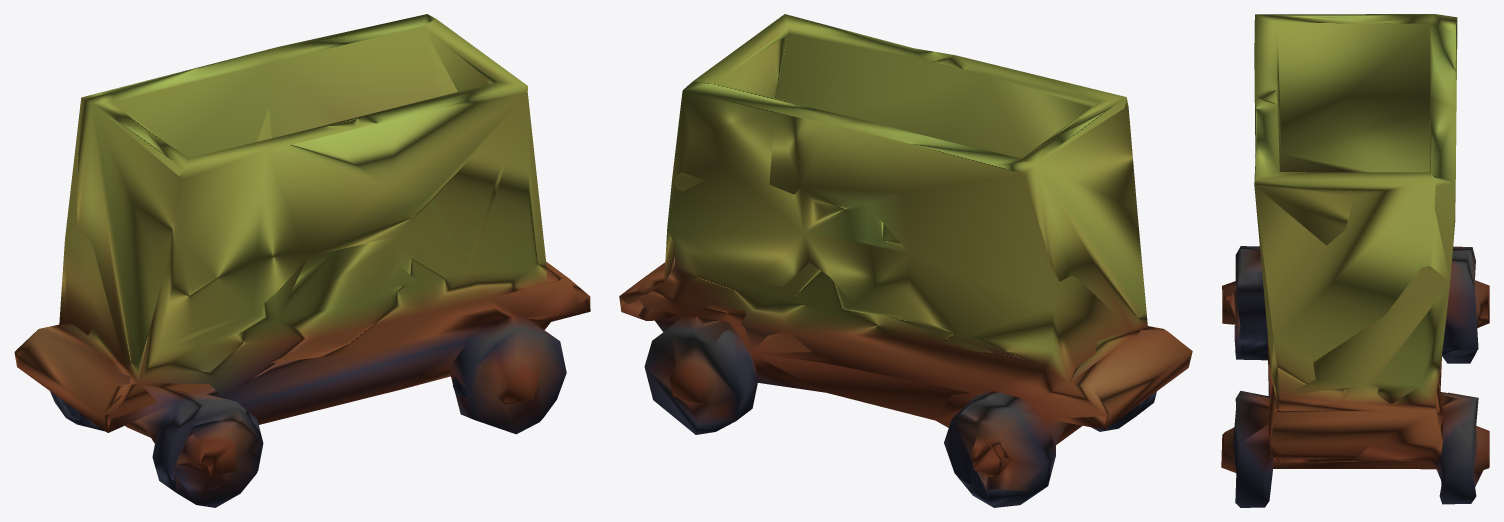
The model's file is gen3d-mine-cart-lod1.glb.
The picture shows the model from 3 angles, left to right: view 1: azimuth 30°, elevation 25°; view 2: azimuth 150°, elevation 25°; view 3: azimuth 270°, elevation 25°; orthographic projection.
Visible parts, largest first — view 1: part_0; view 2: part_0; view 3: part_0.
Boxes of the visible parts, left/top/right/bottom form: part_0: left=14, top=14, right=590, bottom=507; part_0: left=619, top=14, right=1192, bottom=507; part_0: left=1221, top=14, right=1489, bottom=507.
Size of the model in its own units: 1.51 by 0.9984 by 0.7266.
